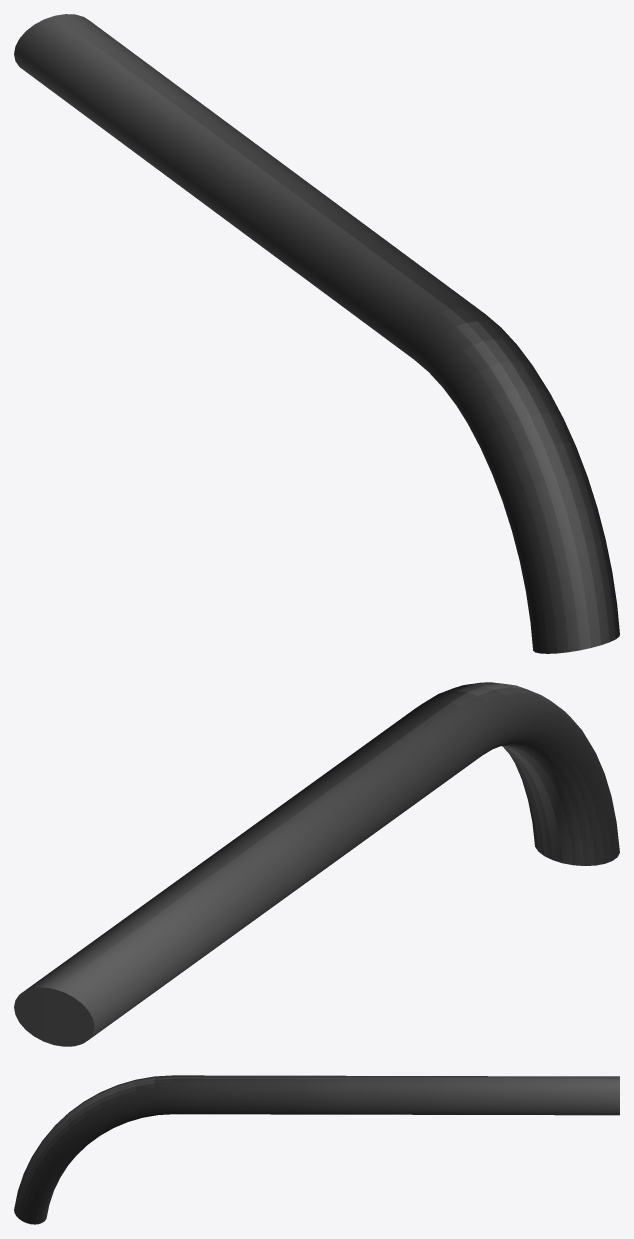
Rendered from original-52.obj.
3 views of the same model, one above another, from view 1: azimuth 30°, elevation 25°; view 2: azimuth 150°, elevation 25°; view 3: azimuth 270°, elevation 25° (orthographic). The views are drawn at different scales.
Parts seen in each view (by area): view 1: Group38/mesh58/mesh58-geometry#mesh58-geometry; view 2: Group38/mesh58/mesh58-geometry#mesh58-geometry; view 3: Group38/mesh58/mesh58-geometry#mesh58-geometry.
Boxes of the visible parts, box(x1,y1,x2,y2) form: Group38/mesh58/mesh58-geometry#mesh58-geometry: box(14, 14, 619, 653); Group38/mesh58/mesh58-geometry#mesh58-geometry: box(14, 682, 619, 1046); Group38/mesh58/mesh58-geometry#mesh58-geometry: box(14, 1075, 619, 1224).
Bounding box in the file's own units: 0.0164 × 0.0442 × 0.1765.
1 material, 1 textured.
